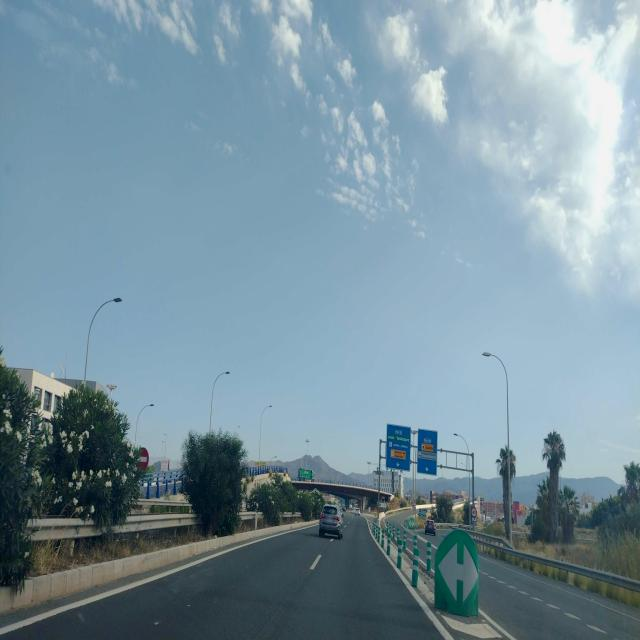car: (318, 502, 344, 540), (424, 518, 436, 536), (354, 507, 361, 516)
